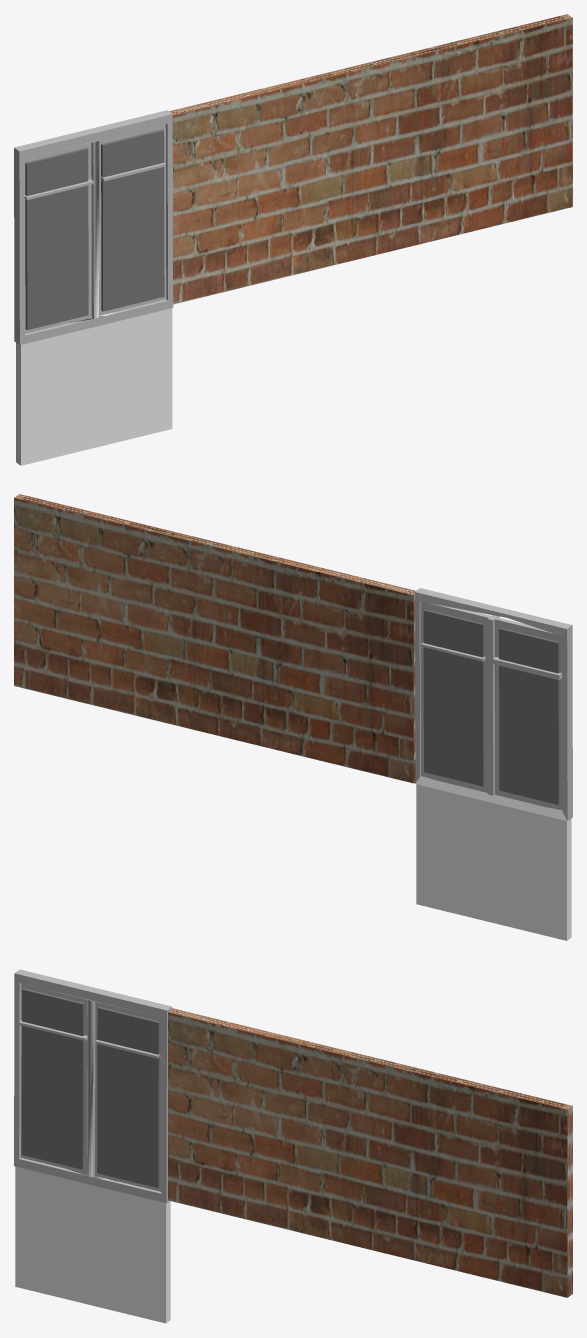
File: 4-Part_Window_w_plane_w_BrickWall.FBX
3 renders of one model, top to bottom at view 1: azimuth 30°, elevation 25°; view 2: azimuth 150°, elevation 25°; view 3: azimuth 330°, elevation 25°, orthographic.
Visible parts, largest first — view 1: Box023, Plane002, Box001, Window_Frame, Window_Pane; view 2: Box023, Plane002, Box001, Window_Frame, Window_Pane; view 3: Box023, Plane002, Box001, Window_Frame, Window_Pane.
Boxes of the visible parts, box(x1,y1,x2,y2) form: Box023: box(169, 14, 572, 304); Plane002: box(25, 129, 164, 329); Box001: box(16, 308, 172, 465); Window_Frame: box(14, 110, 173, 344); Window_Pane: box(24, 124, 166, 333); Box023: box(14, 494, 415, 783); Plane002: box(423, 609, 559, 804); Box001: box(416, 784, 571, 940); Window_Frame: box(414, 588, 572, 821); Window_Pane: box(420, 601, 562, 810); Box023: box(168, 1008, 572, 1297); Plane002: box(21, 988, 160, 1187); Box001: box(15, 1166, 170, 1323); Window_Frame: box(14, 969, 172, 1203); Window_Pane: box(21, 983, 161, 1191).
Size of the model in its own units: 36.63 by 19.84 by 1.04.
Materials: 4 (1 with a texture image).
